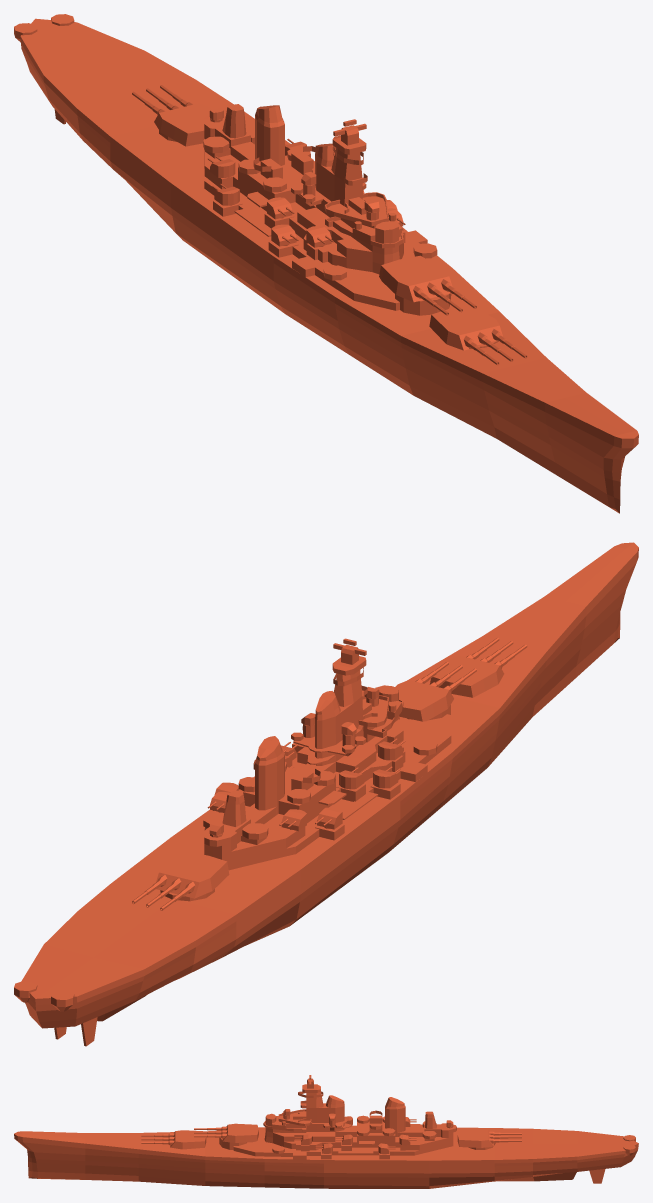
Rendered from Iowa.fbx.
3 renders of one model, top to bottom at view 1: azimuth 30°, elevation 25°; view 2: azimuth 150°, elevation 25°; view 3: azimuth 270°, elevation 25°, orthographic. The views are drawn at different scales.
Visible parts, largest first — view 1: Iowa; view 2: Iowa; view 3: Iowa.
Boxes of the visible parts, <box> form: Iowa: <box>14,14,638,513</box>; Iowa: <box>14,542,638,1046</box>; Iowa: <box>14,1075,638,1188</box>.
Bounding box in the file's own units: 33.97 × 49.3 × 270.
